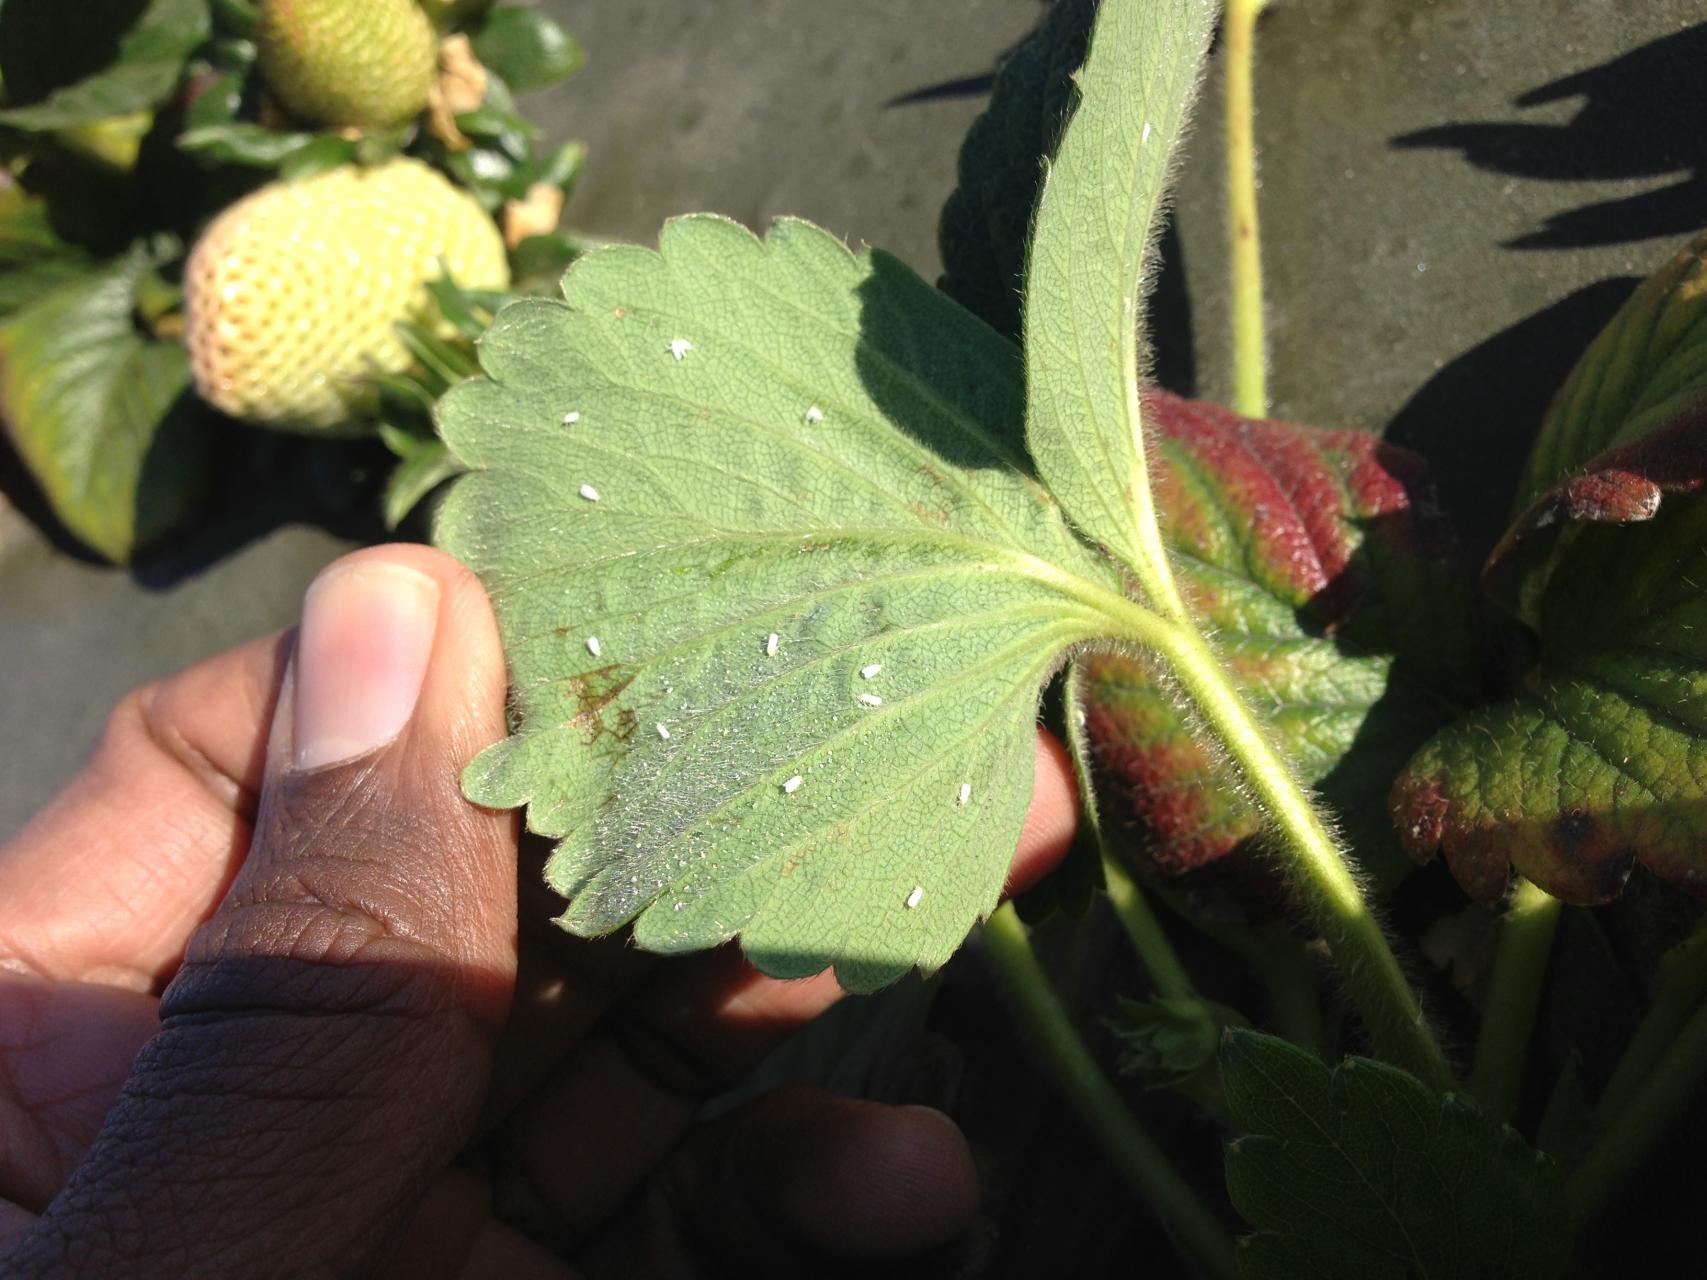Tobacco Whitefly: (561, 625, 635, 686), (665, 333, 720, 376), (573, 480, 622, 519), (765, 615, 786, 684)
